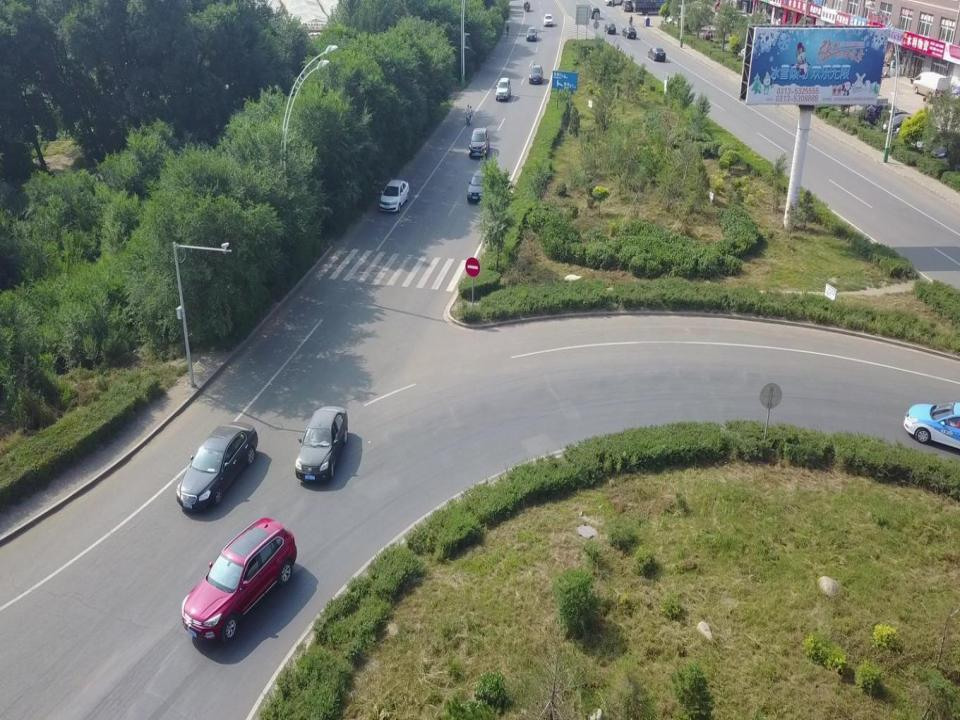car: (179, 518, 297, 641), (177, 421, 259, 511), (296, 404, 348, 487), (902, 400, 958, 450), (467, 167, 492, 204), (380, 181, 408, 214), (468, 128, 488, 158), (648, 47, 666, 62), (529, 64, 543, 82), (674, 15, 691, 27), (622, 26, 636, 40), (527, 26, 537, 43), (703, 30, 716, 42), (590, 6, 601, 19), (605, 24, 617, 35), (621, 0, 633, 11), (544, 14, 554, 26)
truck: (911, 72, 951, 100)
van: (496, 78, 510, 102)
